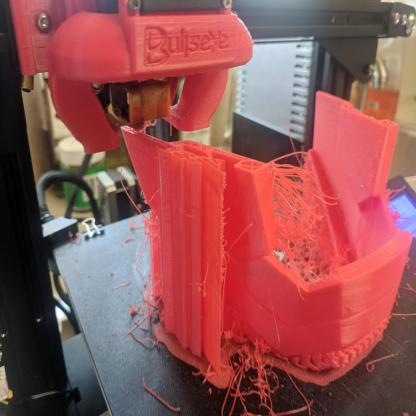fail: (274, 151, 327, 275), (220, 334, 297, 416)
